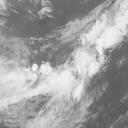cyclone: (37, 54, 81, 106)
